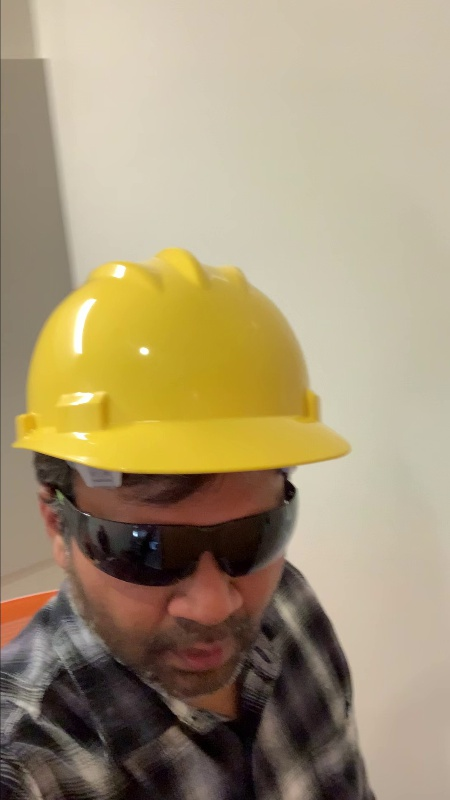glasses: (68, 507, 310, 579)
helmet: (27, 251, 328, 436)
